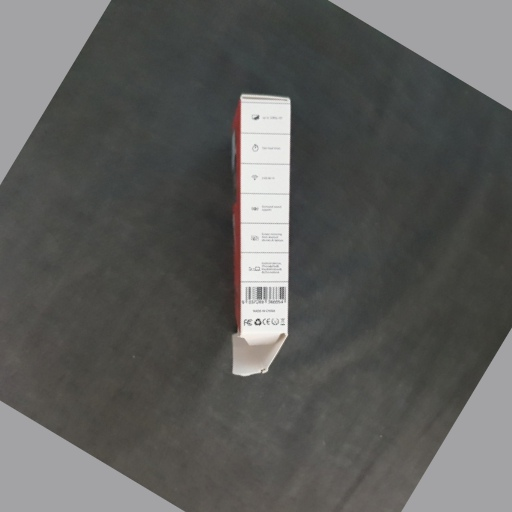Paper_0: (225, 91, 308, 398)
